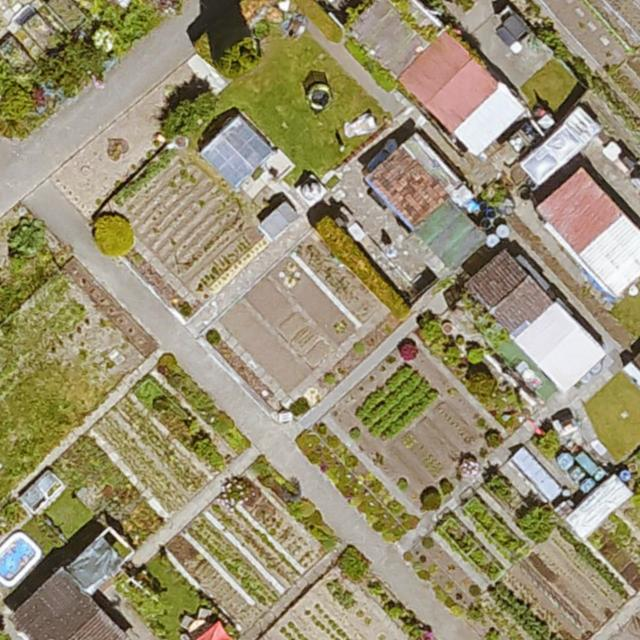tree: (213, 28, 264, 76), (164, 90, 216, 135)
